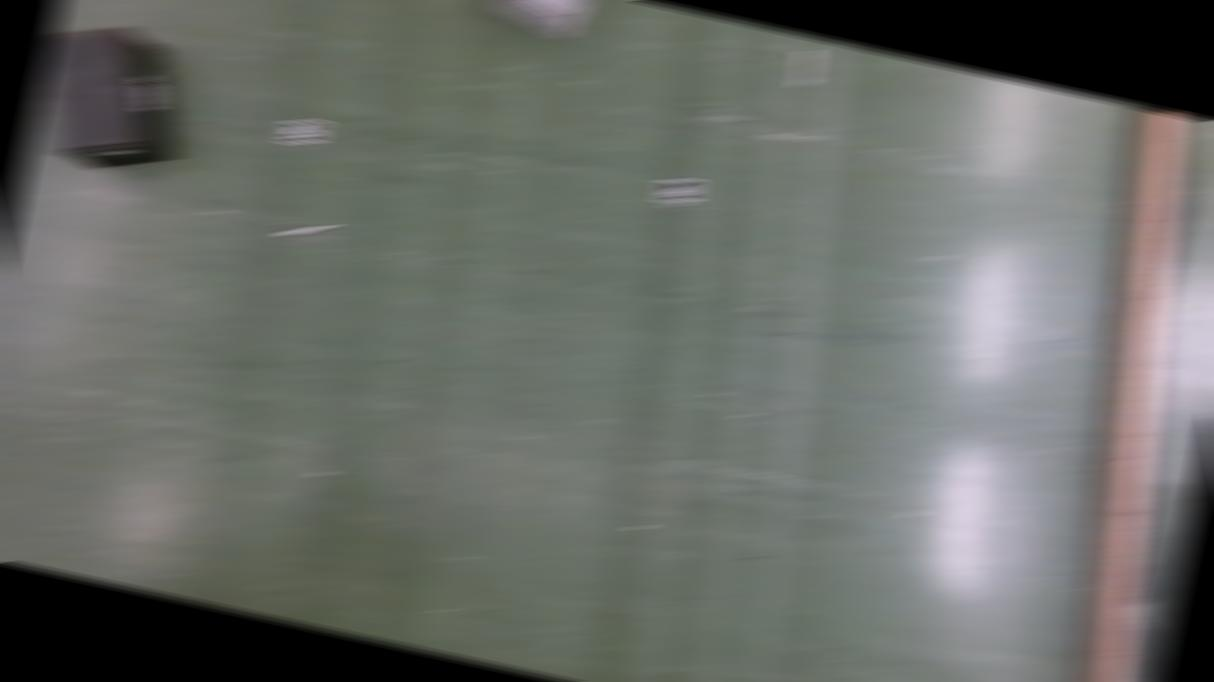probes: (279, 218, 332, 244), (791, 48, 822, 88)
rako: (21, 15, 200, 182), (476, 0, 602, 45)
